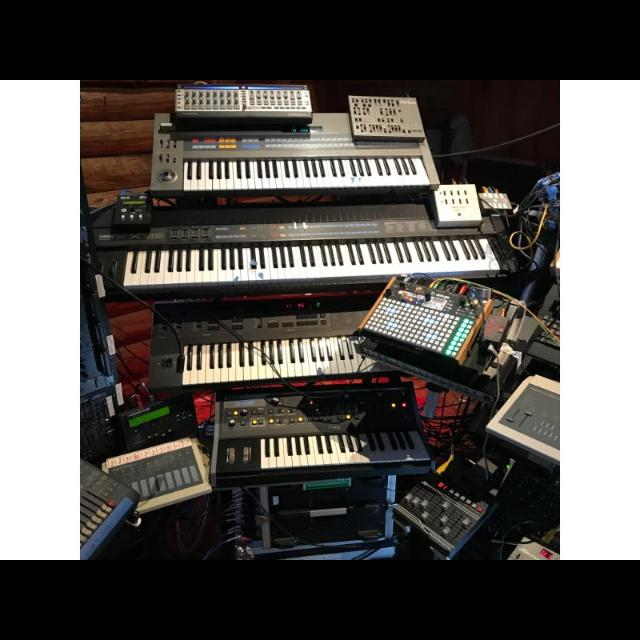Electronic-Keyboard: (118, 208, 494, 280), (148, 103, 430, 187), (146, 300, 407, 378), (209, 395, 429, 469)
